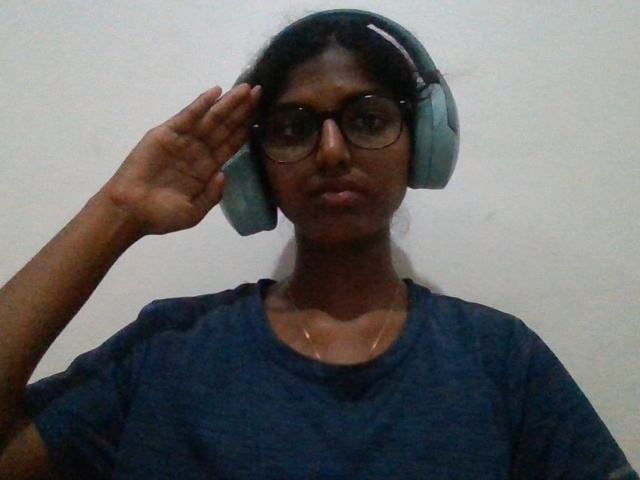Hello: (98, 47, 282, 298)
